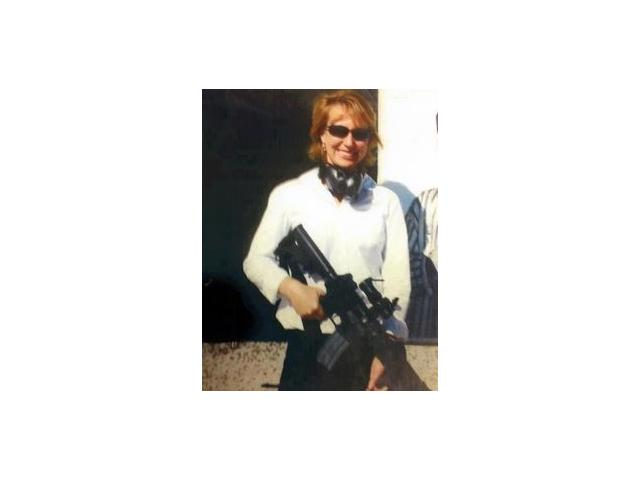rifle: (271, 220, 424, 388)
